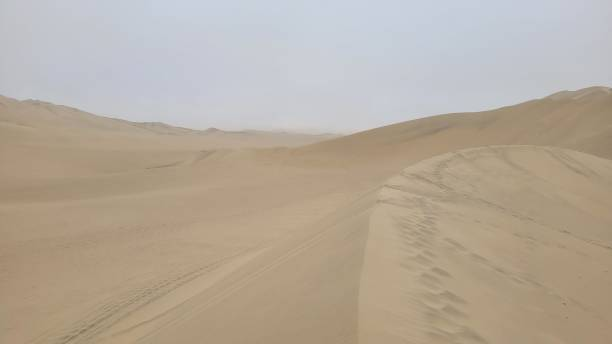human_foot_print: (399, 143, 511, 343)
